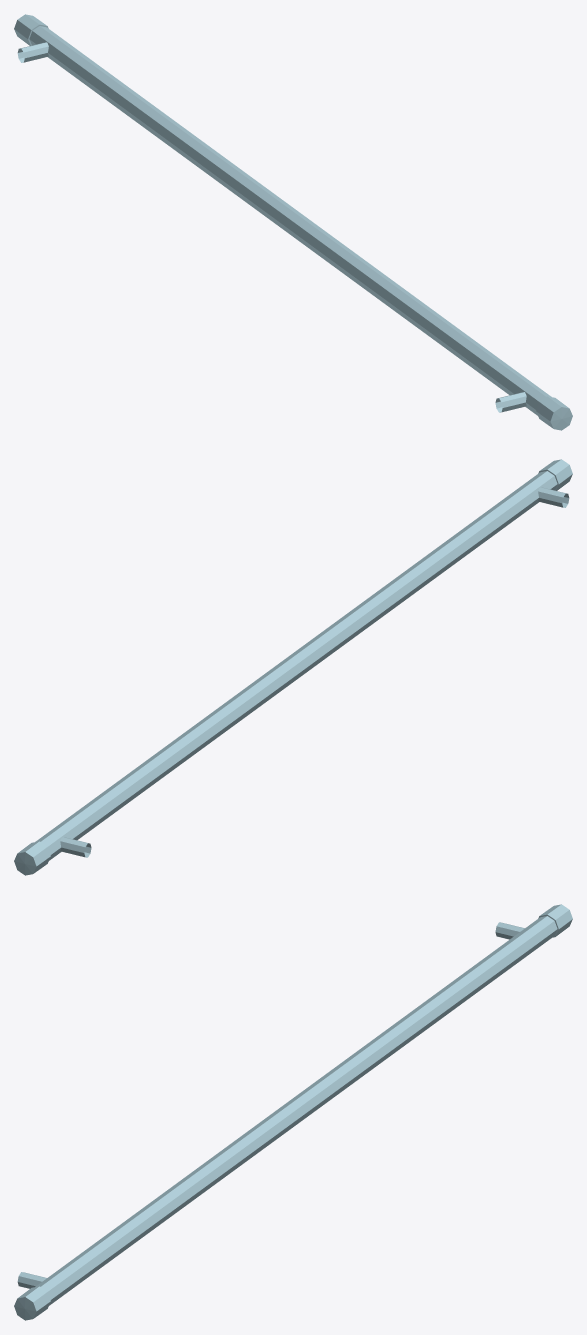
Rendered from Bedroom_2_Cornice.fbx.
3 renders of one model, top to bottom at view 1: azimuth 30°, elevation 25°; view 2: azimuth 150°, elevation 25°; view 3: azimuth 330°, elevation 25°, orthographic.
Visible parts, largest first — view 1: Bedroom_2_Cornice; view 2: Bedroom_2_Cornice; view 3: Bedroom_2_Cornice.
Boxes of the visible parts, box(x1,y1,x2,y2) form: Bedroom_2_Cornice: box(14, 14, 572, 430); Bedroom_2_Cornice: box(14, 459, 572, 875); Bedroom_2_Cornice: box(14, 904, 572, 1320).
Size of the model in its own units: 18.58 by 9.52 by 385.
